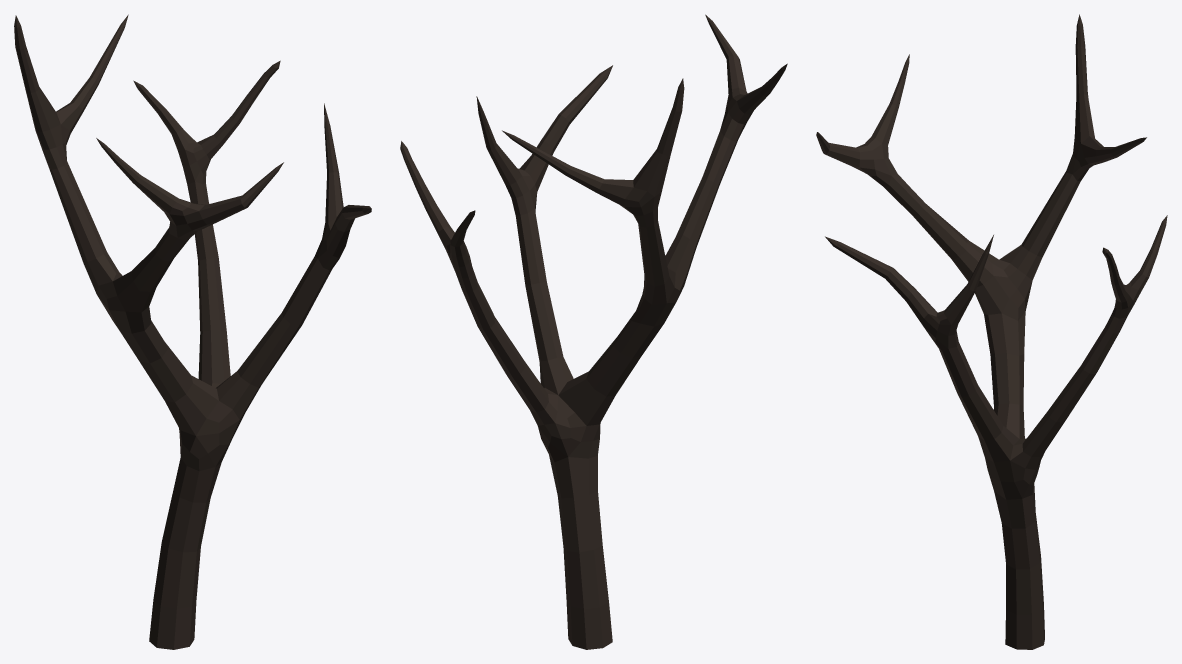
File: Tree_Dead_2.fbx
3 renders of one model, left to right at view 1: azimuth 30°, elevation 25°; view 2: azimuth 150°, elevation 25°; view 3: azimuth 270°, elevation 25°, orthographic. The views are drawn at different scales.
Visible parts, largest first — view 1: Dead_Tree_2; view 2: Dead_Tree_2; view 3: Dead_Tree_2.
Boxes of the visible parts, box(x1,y1,x2,y2) form: Dead_Tree_2: box(14, 14, 371, 649); Dead_Tree_2: box(400, 14, 787, 649); Dead_Tree_2: box(816, 14, 1167, 649).
Bounding box in the file's own units: 3.09 × 6.42 × 3.56.
